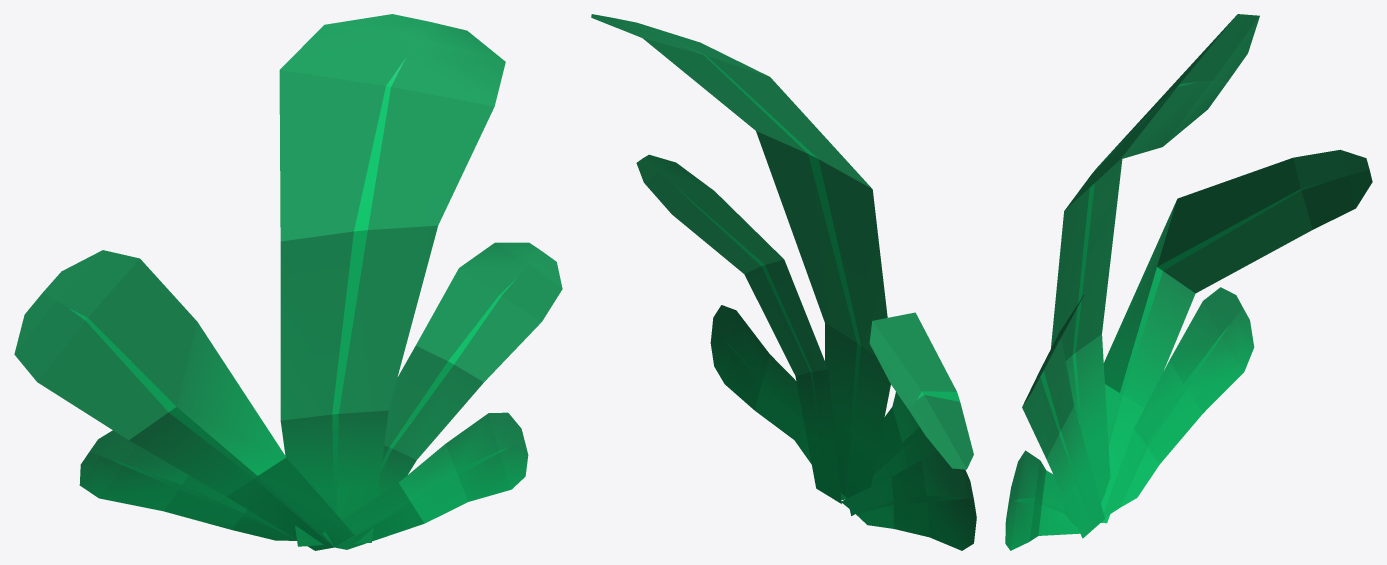
The model's file is mdl_env_1_forest_grass_e_v01.fbx.
The picture shows the model from 3 angles, left to right: view 1: azimuth 30°, elevation 25°; view 2: azimuth 150°, elevation 25°; view 3: azimuth 270°, elevation 25°; orthographic projection. The views are drawn at different scales.
Parts seen in each view (by area): view 1: mdl_env_1_forest_grass_e_v01.002; view 2: mdl_env_1_forest_grass_e_v01.002; view 3: mdl_env_1_forest_grass_e_v01.002.
Boxes of the visible parts, <box> form: mdl_env_1_forest_grass_e_v01.002: <box>14,14,562,550</box>; mdl_env_1_forest_grass_e_v01.002: <box>591,14,976,550</box>; mdl_env_1_forest_grass_e_v01.002: <box>1005,14,1372,550</box>.
Bounding box in the file's own units: 2.34 × 2.49 × 1.5.
